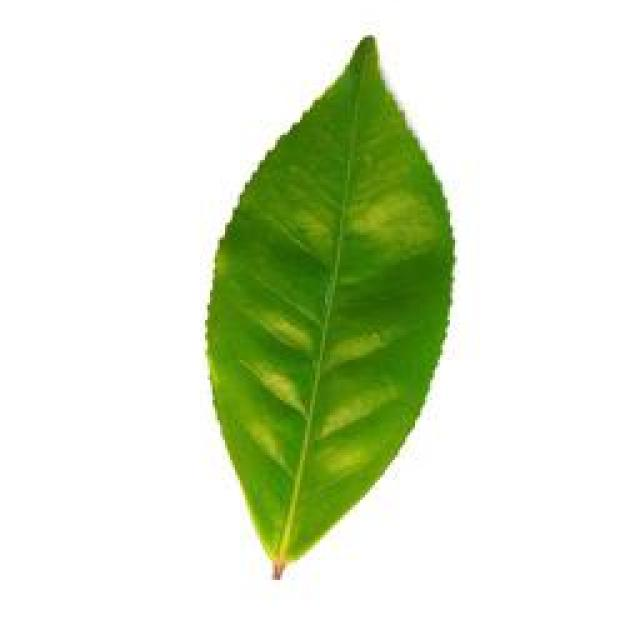Healthy: (198, 37, 455, 586)
